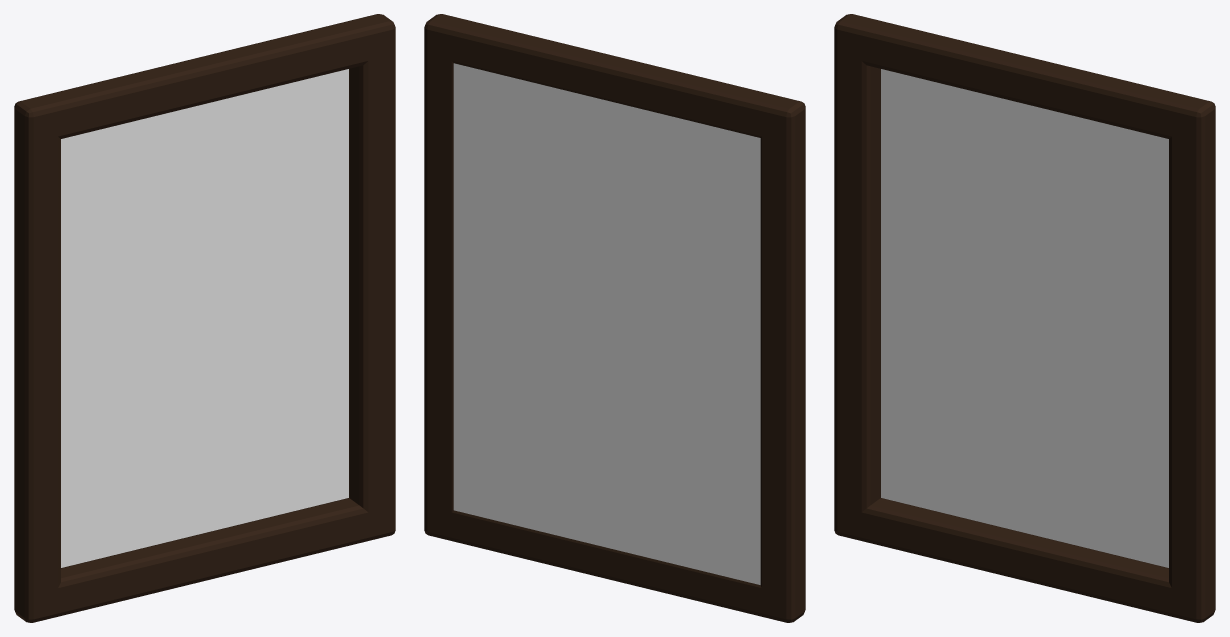
File: bilderrahmen.glb
The picture shows the model from 3 angles, left to right: view 1: azimuth 30°, elevation 25°; view 2: azimuth 150°, elevation 25°; view 3: azimuth 330°, elevation 25°; orthographic projection.
Visible parts, largest first — view 1: bild, rahmen; view 2: bild, rahmen; view 3: bild, rahmen.
Boxes of the visible parts, bbox=[...] form: bild: bbox=[61, 69, 348, 567]; rahmen: bbox=[14, 14, 395, 622]; bild: bbox=[453, 63, 760, 584]; rahmen: bbox=[424, 14, 805, 622]; bild: bbox=[881, 69, 1168, 567]; rahmen: bbox=[834, 14, 1215, 622].
Size of the model in its own units: 0.52 by 0.69 by 0.04.
